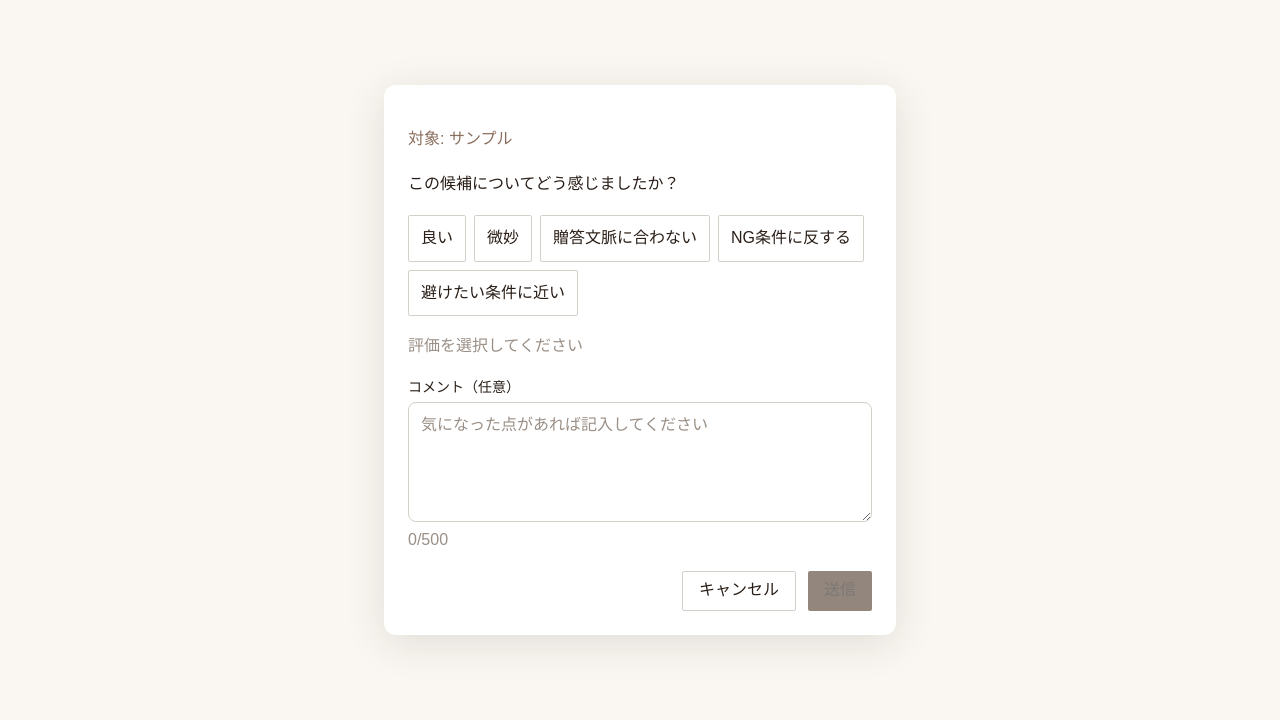
Test case: FeedbackInputModal › submits item_good with mapped rating
This screenshot has width=1280, height=720.
Click the button "良い". click: (437, 238)
box: [408,215,466,262]
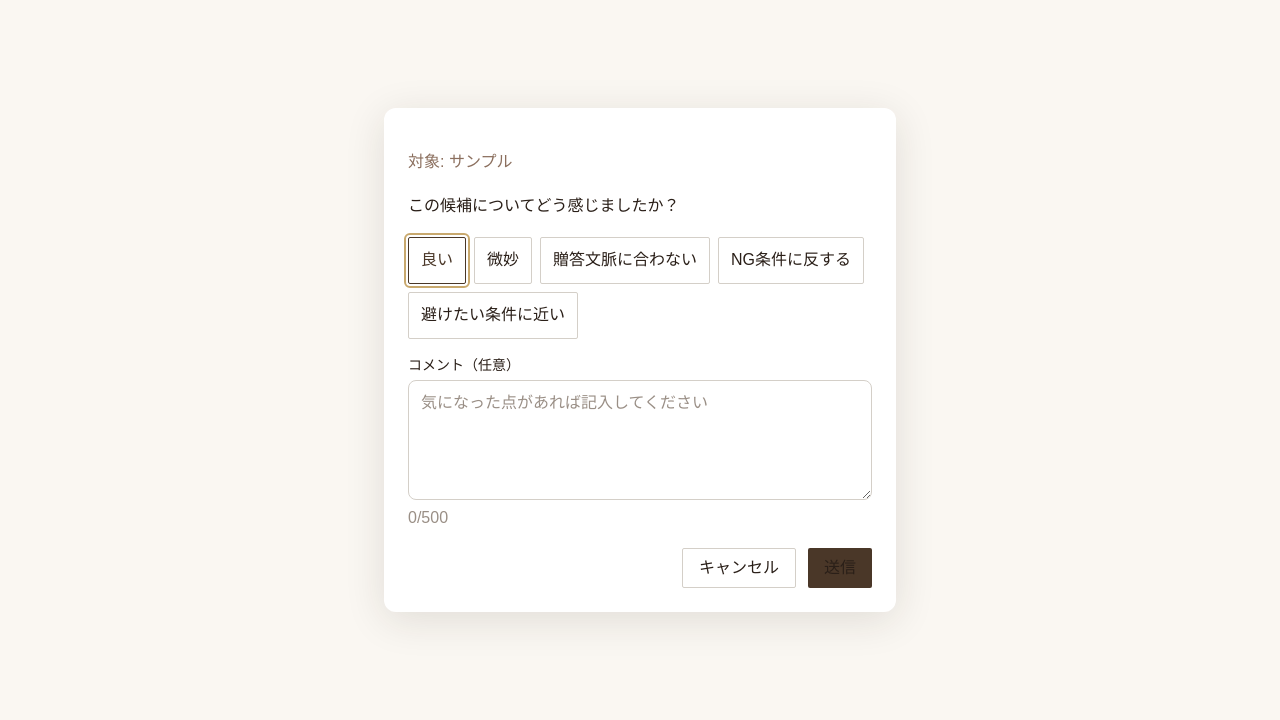
Click the button "送信". click: (840, 568)
box: [808,548,872,588]
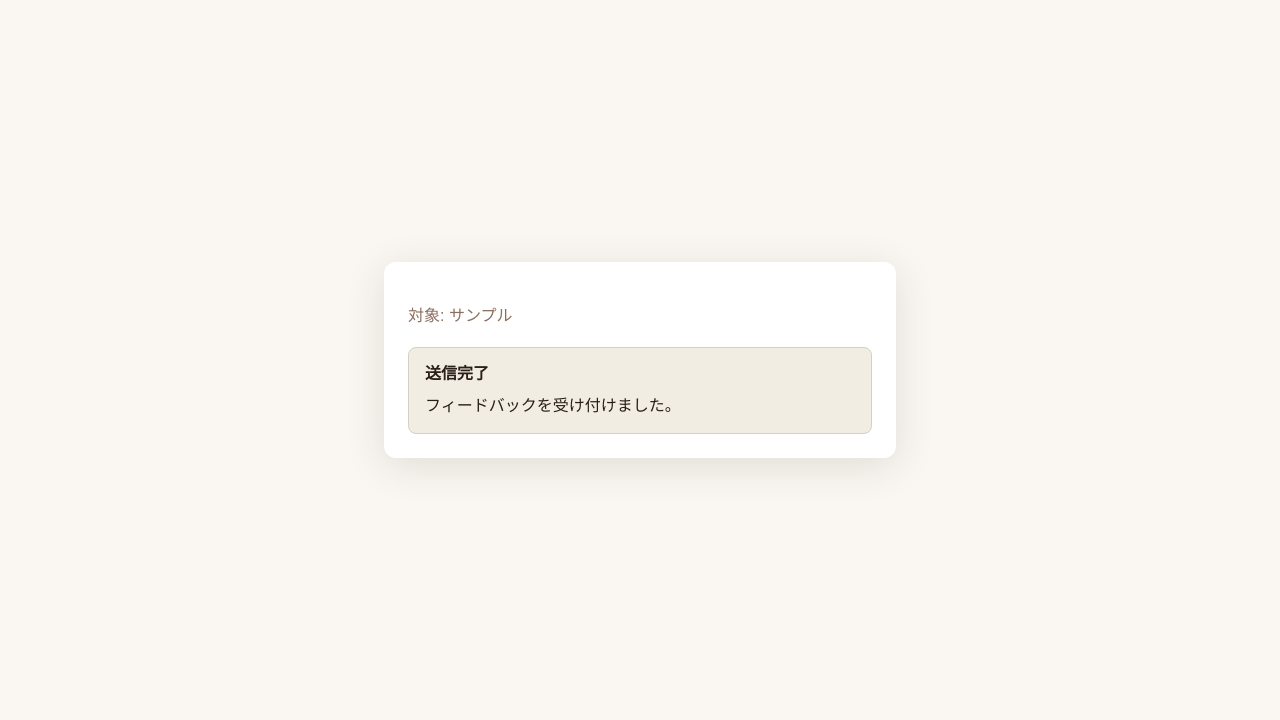
Check: the text "フィードバックを受け付けました。" is shown, box [425,397,681,414]
